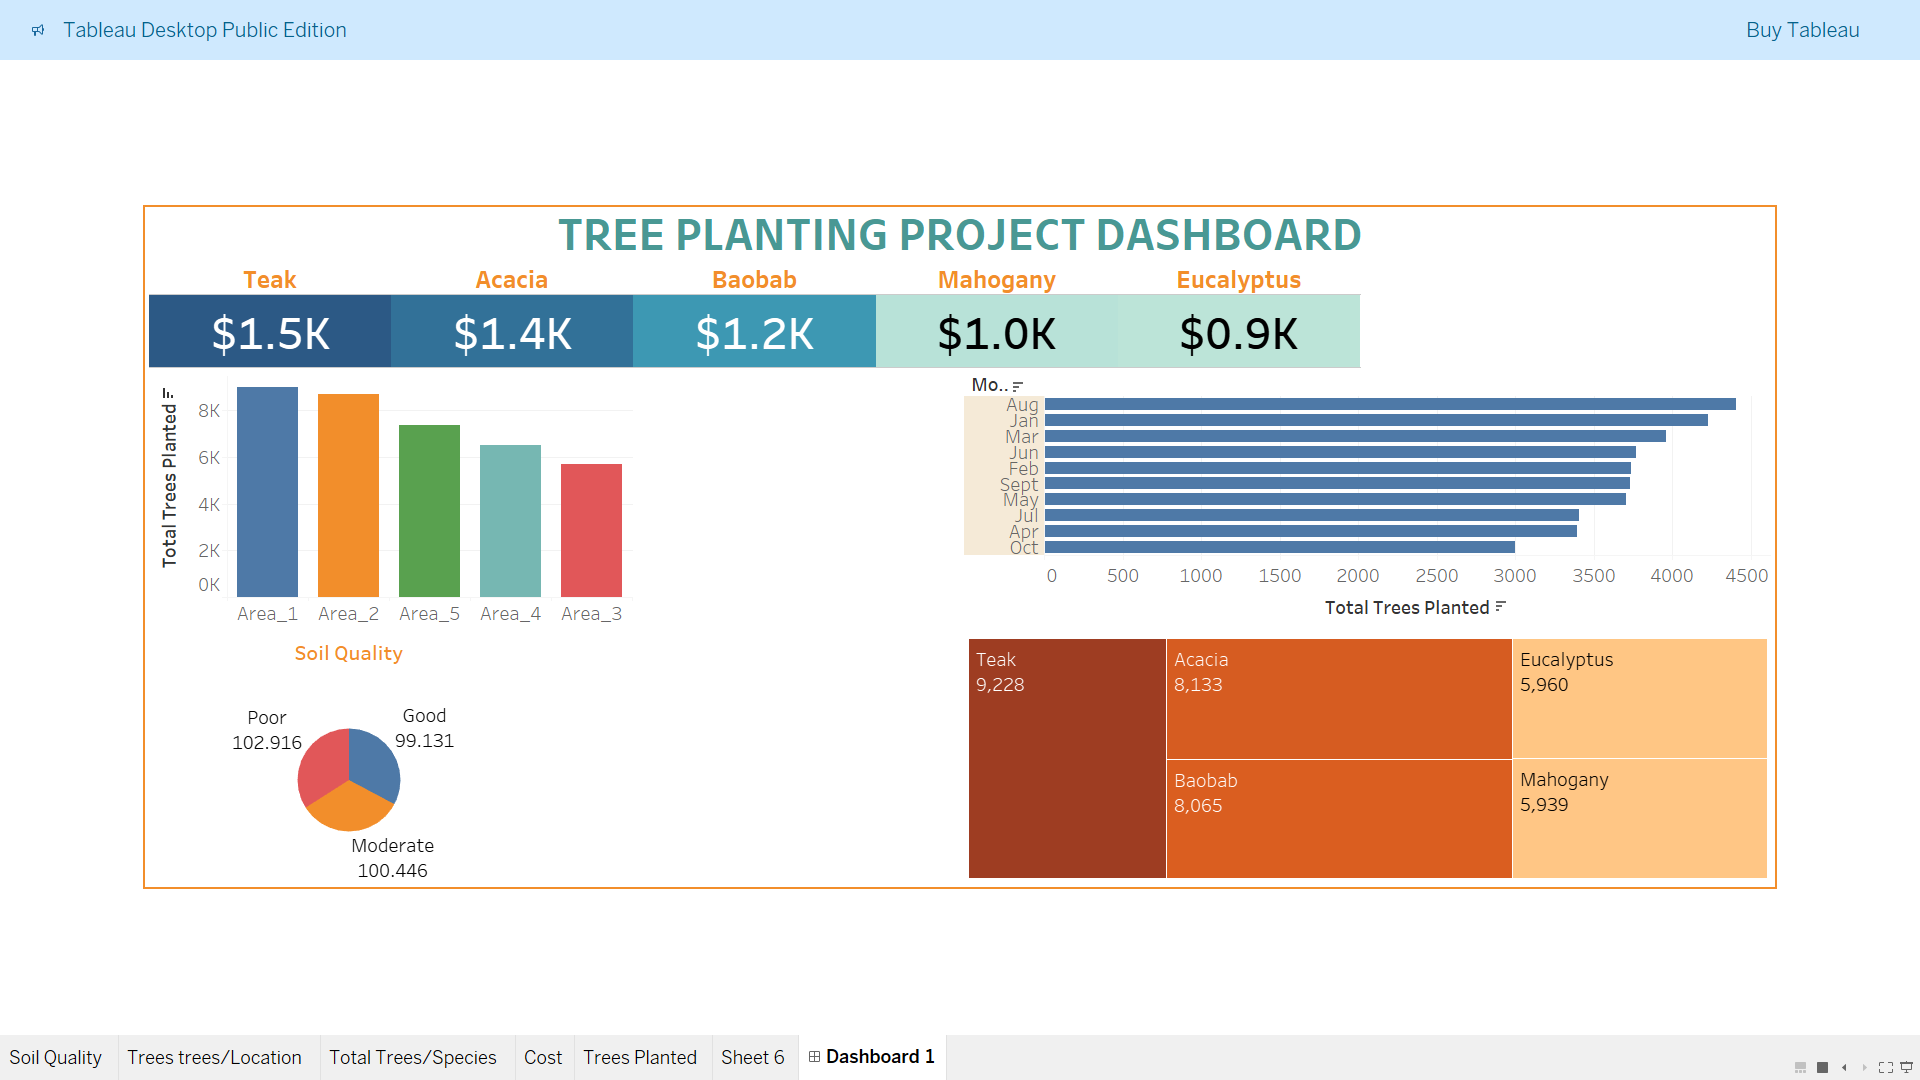

This screenshot's page, from the dashboard's own definition file:
{"tool":"tableau","page":{"name":"Dashboard 1","canvas":[1650,700],"ordinal":0},"visuals":[{"type":"text","box":[10,10,1630,51]},{"type":"worksheet","title":"Cost","mark":"Square","cols":["Species"],"box":[10,61,1219.9,114]},{"type":"blank","box":[1229.9,61,410,114]},{"type":"worksheet","title":"Trees trees/Location","mark":"Automatic","rows":["Total_Trees_Planted"],"cols":["Location"],"box":[10,175,815,258]},{"type":"worksheet","title":"Trees Planted","mark":"Bar","rows":["Planting_Date"],"cols":["Total_Trees_Planted"],"box":[825,175,815,258]},{"type":"worksheet","title":"Soil Quality","mark":"Pie","box":[10,433,612,257]},{"type":"blank","box":[622,433,203,257]},{"type":"worksheet","title":"Total Trees/Species","mark":"Automatic","box":[825,433,815,257]}]}

Visuals, with their boxes on the page's 1650x700 design canvas (x1, y1, x2, y2). These are canvas units, not pixel positions in the 1920x1080 screenshot, which may show the page scaled, cropped or inside an application window:
text: rect(10, 10, 1640, 61)
"Cost" worksheet (Square marks): rect(10, 61, 1230, 175)
blank: rect(1230, 61, 1640, 175)
"Trees trees/Location" worksheet: rect(10, 175, 825, 433)
"Trees Planted" worksheet (Bar marks): rect(825, 175, 1640, 433)
"Soil Quality" worksheet (Pie marks): rect(10, 433, 622, 690)
blank: rect(622, 433, 825, 690)
"Total Trees/Species" worksheet: rect(825, 433, 1640, 690)
